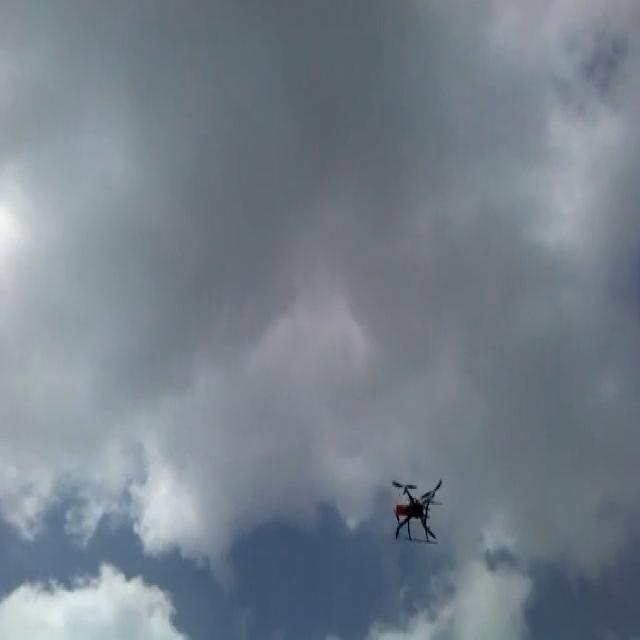drone: (388, 466, 449, 548)
